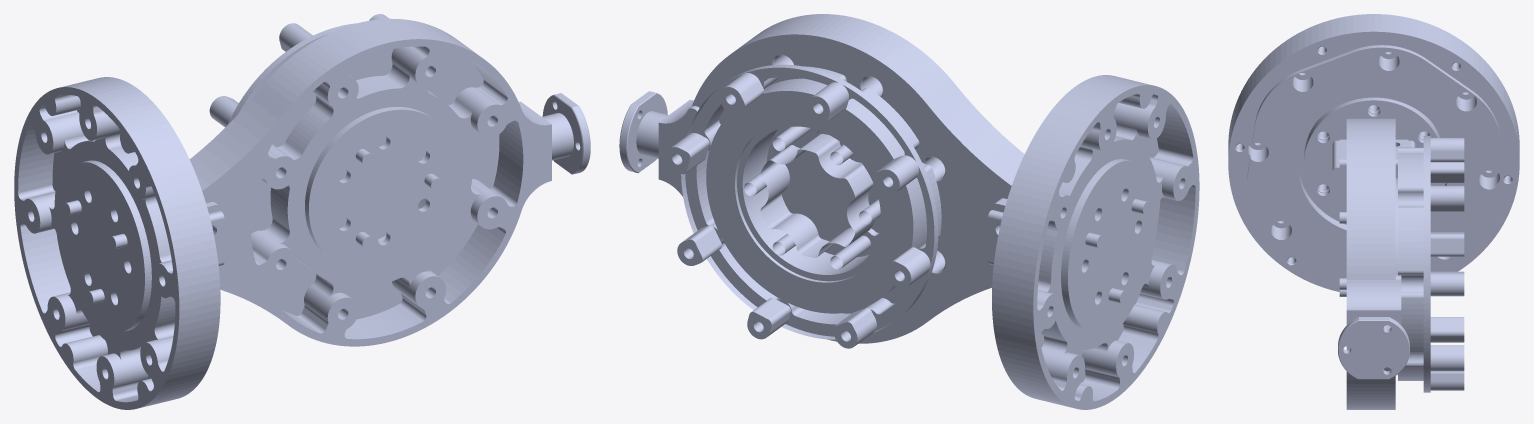
The model's file is hip.dae.
The picture shows the model from 3 angles, left to right: view 1: azimuth 30°, elevation 25°; view 2: azimuth 150°, elevation 25°; view 3: azimuth 270°, elevation 25°; orthographic projection. The views are drawn at different scales.
Visible parts, largest first — view 1: node_ab20a175_b2fe_4920_83da_cb2453554d31_mesh0, node_ab20a175_b2fe_4920_83da_cb2453554d31_mesh1; view 2: node_ab20a175_b2fe_4920_83da_cb2453554d31_mesh0, node_ab20a175_b2fe_4920_83da_cb2453554d31_mesh1; view 3: node_ab20a175_b2fe_4920_83da_cb2453554d31_mesh1, node_ab20a175_b2fe_4920_83da_cb2453554d31_mesh0.
Part boxes in pixels (left/top/right/bottom): node_ab20a175_b2fe_4920_83da_cb2453554d31_mesh0: left=18, top=14, right=590, bottom=402; node_ab20a175_b2fe_4920_83da_cb2453554d31_mesh1: left=14, top=18, right=590, bottom=409; node_ab20a175_b2fe_4920_83da_cb2453554d31_mesh0: left=619, top=34, right=1195, bottom=401; node_ab20a175_b2fe_4920_83da_cb2453554d31_mesh1: left=626, top=14, right=1199, bottom=409; node_ab20a175_b2fe_4920_83da_cb2453554d31_mesh1: left=1228, top=31, right=1519, bottom=388; node_ab20a175_b2fe_4920_83da_cb2453554d31_mesh0: left=1229, top=14, right=1519, bottom=409.
Bounding box in the file's own units: 210 × 125 × 125.
